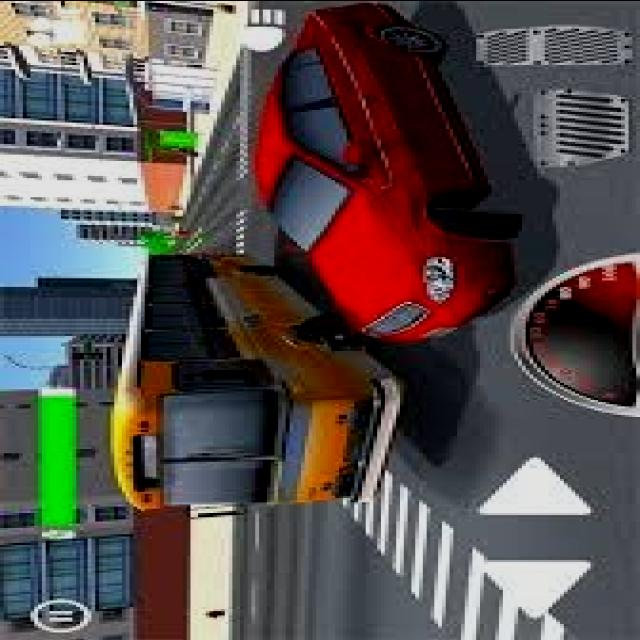bus: (107, 252, 415, 513)
